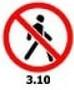road_sign: (4, 2, 71, 71)
